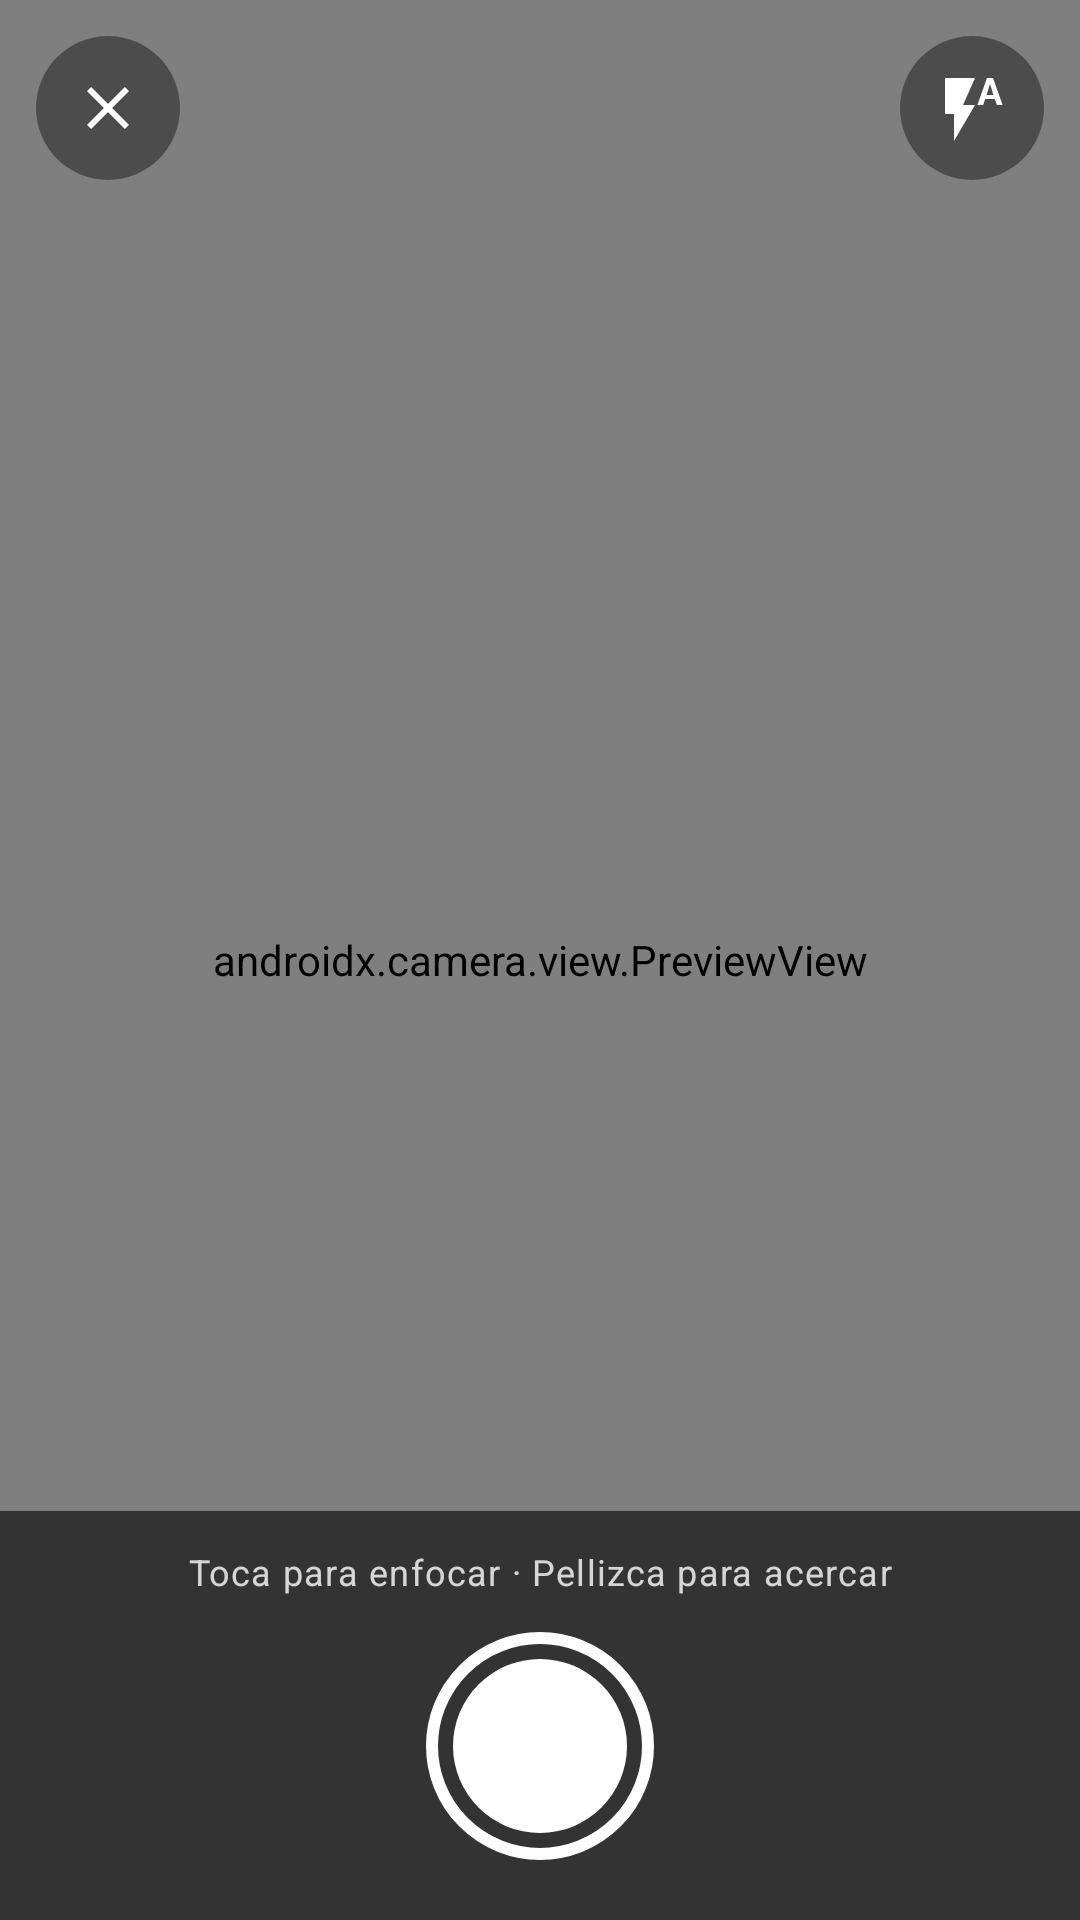

Screen size 1080px x 1920px. Icon name, then its center in pixels as [x,y]:
Cerrar: [108,108]
Flash automático: [972,108]
